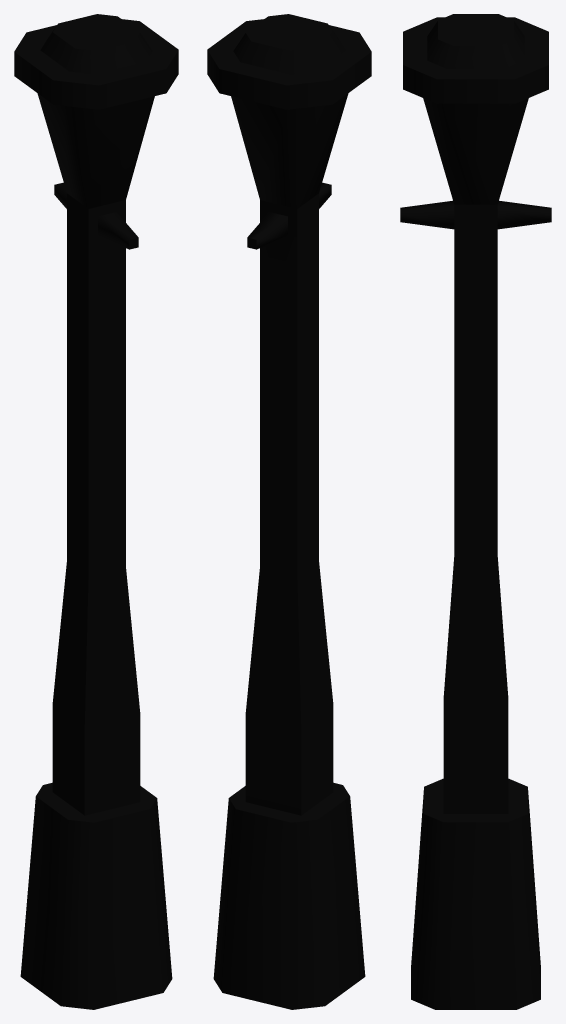
Rendered from lantern.glb.
3 renders of one model, left to right at view 1: azimuth 30°, elevation 25°; view 2: azimuth 150°, elevation 25°; view 3: azimuth 270°, elevation 25°, orthographic.
Visible parts, largest first — view 1: lantern; view 2: lantern; view 3: lantern.
Part boxes in pixels (box(x1,y1,x2,y2)): lantern: box(14, 14, 178, 1009); lantern: box(207, 14, 371, 1009); lantern: box(400, 14, 551, 1009).
Bounding box in the file's own units: 0.2163 × 1.56 × 0.2243.
1 material, 1 textured.
